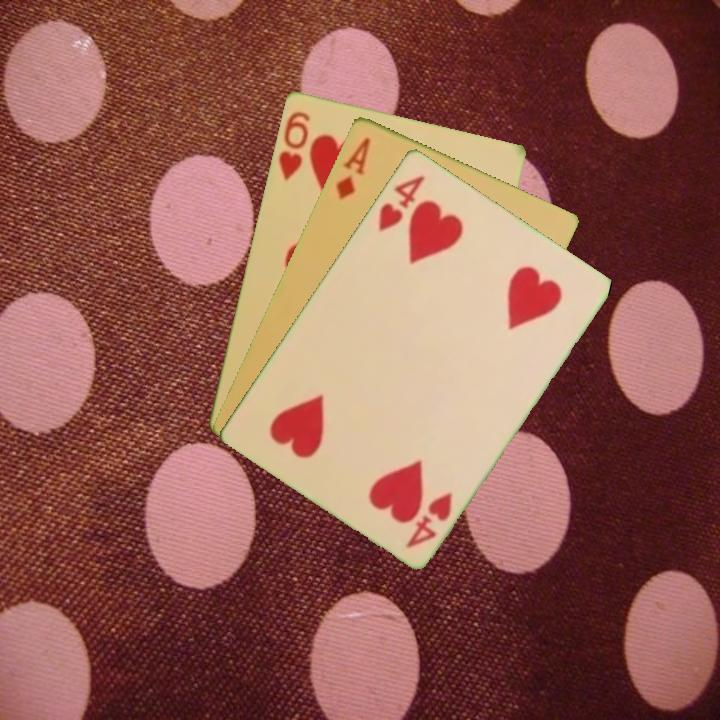4h: (374, 171, 428, 234), (402, 488, 455, 551)
6h: (274, 107, 313, 183)
Ad: (332, 133, 373, 202)
